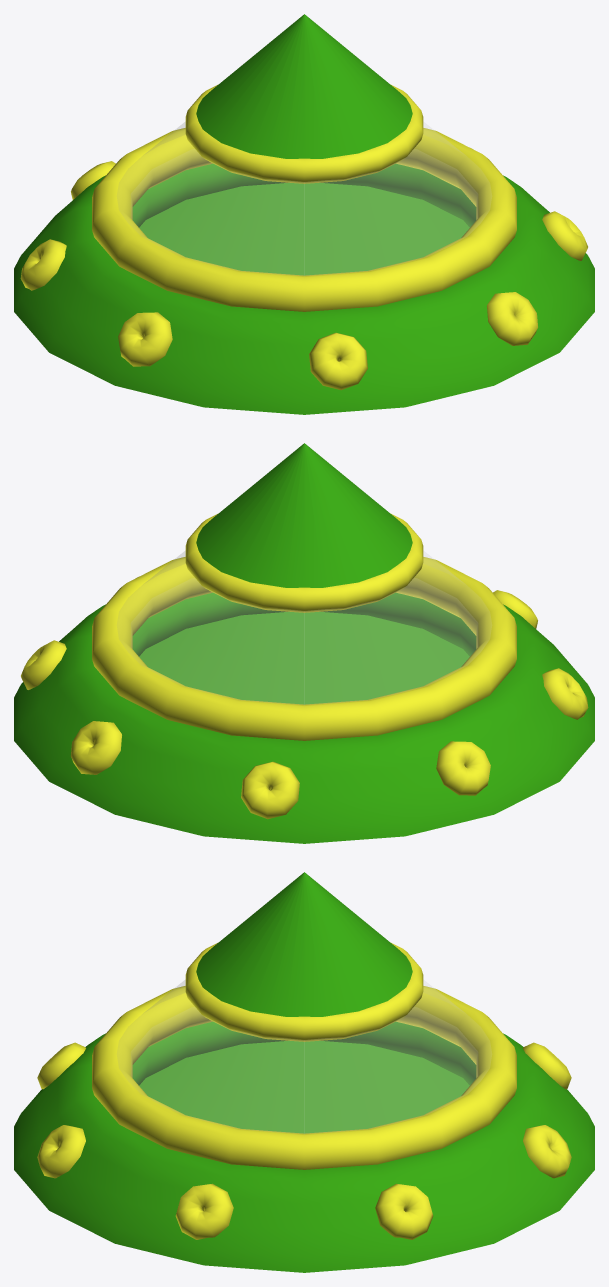
Rendered from 3angle 01.fbx.
3 renders of one model, top to bottom at view 1: azimuth 30°, elevation 25°; view 2: azimuth 150°, elevation 25°; view 3: azimuth 270°, elevation 25°, orthographic.
Visible parts, largest first — view 1: Torus, Cone, Torus_2, Cylinder, Cone_1, Torus_1, Torus_6_2, Torus_6_3, Torus_6_1, Torus_6_4, Torus_6_0, Torus_6_5; view 2: Torus, Cone, Torus_2, Cylinder, Cone_1, Torus_1, Torus_6_5, Torus_6_4, Torus_6_6, Torus_6_3, Torus_6_7, Torus_6_2; view 3: Torus, Cone, Torus_2, Cylinder, Cone_1, Torus_1, Torus_6_0, Torus_6_7, Torus_6_1, Torus_6_6, Torus_6_2, Torus_6_5.
Boxes of the visible parts, x1,y1,x2,y2 form: Torus: [14, 163, 594, 414]; Cone: [130, 122, 478, 275]; Torus_2: [92, 128, 516, 311]; Cylinder: [139, 182, 469, 275]; Cone_1: [196, 14, 412, 158]; Torus_1: [185, 84, 423, 183]; Torus_6_2: [309, 332, 367, 390]; Torus_6_3: [118, 312, 172, 366]; Torus_6_1: [487, 292, 537, 345]; Torus_6_4: [20, 239, 66, 290]; Torus_6_0: [542, 211, 587, 260]; Torus_6_5: [71, 161, 115, 199]; Torus: [14, 592, 594, 843]; Cone: [130, 551, 478, 704]; Torus_2: [92, 557, 516, 740]; Cylinder: [139, 611, 469, 704]; Cone_1: [196, 443, 412, 587]; Torus_1: [185, 513, 423, 612]; Torus_6_5: [241, 761, 299, 819]; Torus_6_4: [436, 741, 490, 795]; Torus_6_6: [71, 721, 121, 774]; Torus_6_3: [542, 668, 588, 719]; Torus_6_7: [21, 640, 66, 689]; Torus_6_2: [493, 590, 537, 628]; Torus: [14, 1021, 594, 1272]; Cone: [130, 980, 478, 1133]; Torus_2: [92, 986, 516, 1169]; Cylinder: [139, 1040, 469, 1133]; Cone_1: [196, 872, 412, 1016]; Torus_1: [185, 942, 423, 1041]; Torus_6_0: [175, 1183, 233, 1239]; Torus_6_7: [375, 1183, 433, 1239]; Torus_6_1: [37, 1125, 85, 1178]; Torus_6_6: [523, 1125, 571, 1178]; Torus_6_2: [37, 1042, 85, 1089]; Torus_6_5: [523, 1042, 571, 1089].
Bounding box in the file's own units: 372 × 196 × 366.
